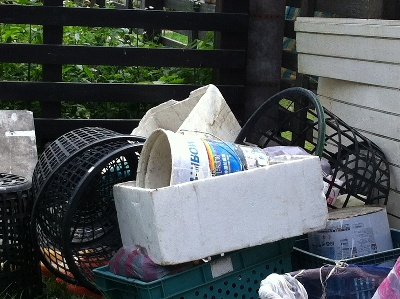bucket: (132, 128, 271, 186)
styrofoam: (111, 151, 330, 265), (128, 84, 242, 146)
